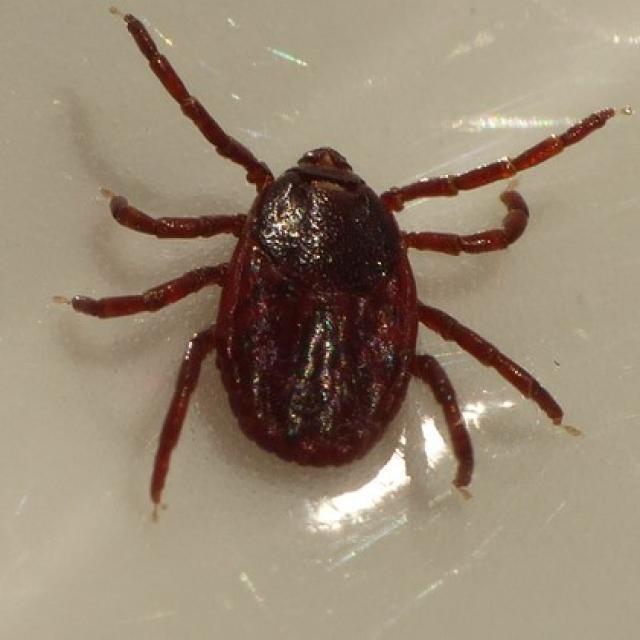Rhipicephalus Sanguineus-F: (72, 15, 631, 507)
